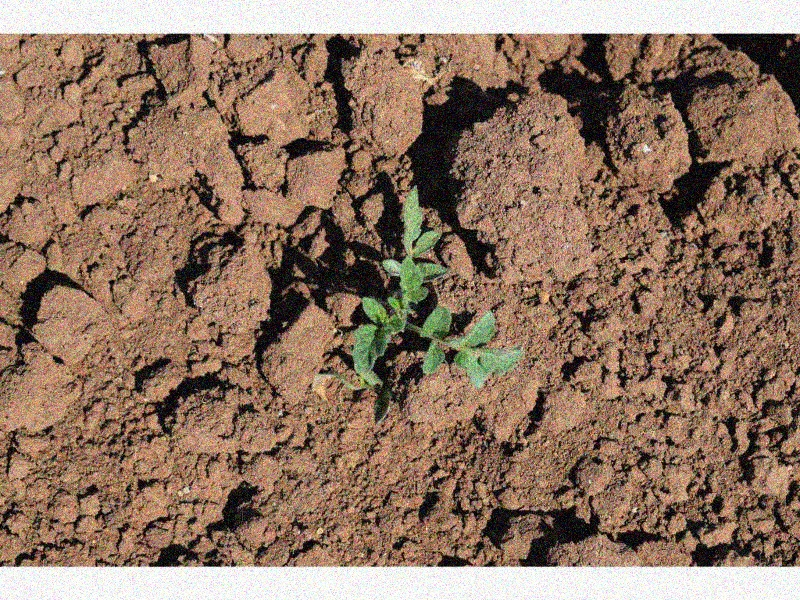tomato: (347, 183, 524, 390)
